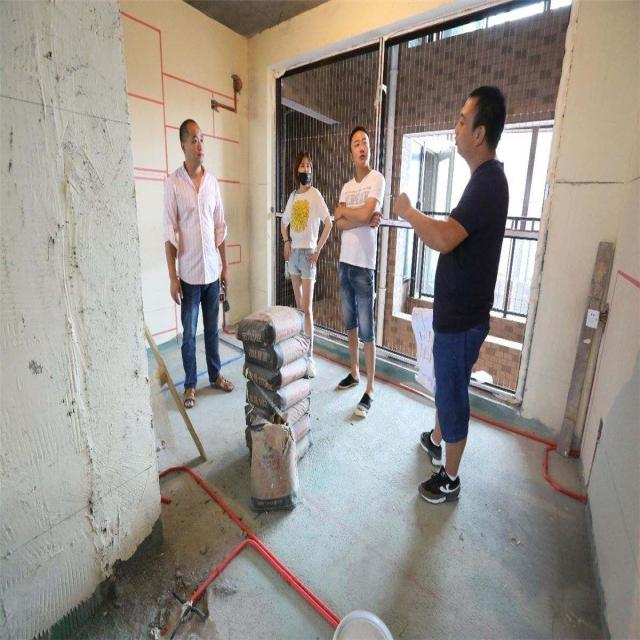boots: (419, 427, 447, 474), (416, 476, 460, 505), (334, 367, 360, 397), (355, 387, 372, 415)
no_boots: (209, 373, 238, 393), (186, 380, 198, 406)
no_gloves: (394, 187, 414, 218), (170, 266, 182, 308), (368, 206, 384, 228), (220, 268, 232, 296), (332, 202, 348, 220), (309, 250, 325, 268), (280, 234, 290, 262)
no_hardhat: (454, 81, 504, 165), (178, 115, 205, 165), (349, 126, 374, 176), (294, 147, 314, 190)
no_vest: (432, 159, 511, 331), (165, 165, 232, 288), (338, 170, 386, 272), (279, 183, 328, 252)
person: (392, 82, 511, 506), (159, 118, 238, 408), (333, 128, 382, 420), (280, 144, 331, 380)
